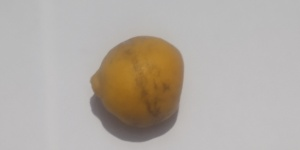BAD: (89, 32, 185, 126)
